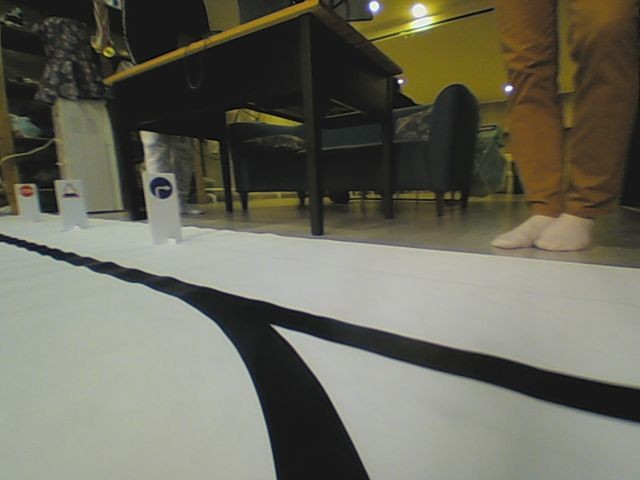Right: (148, 176, 173, 201)
